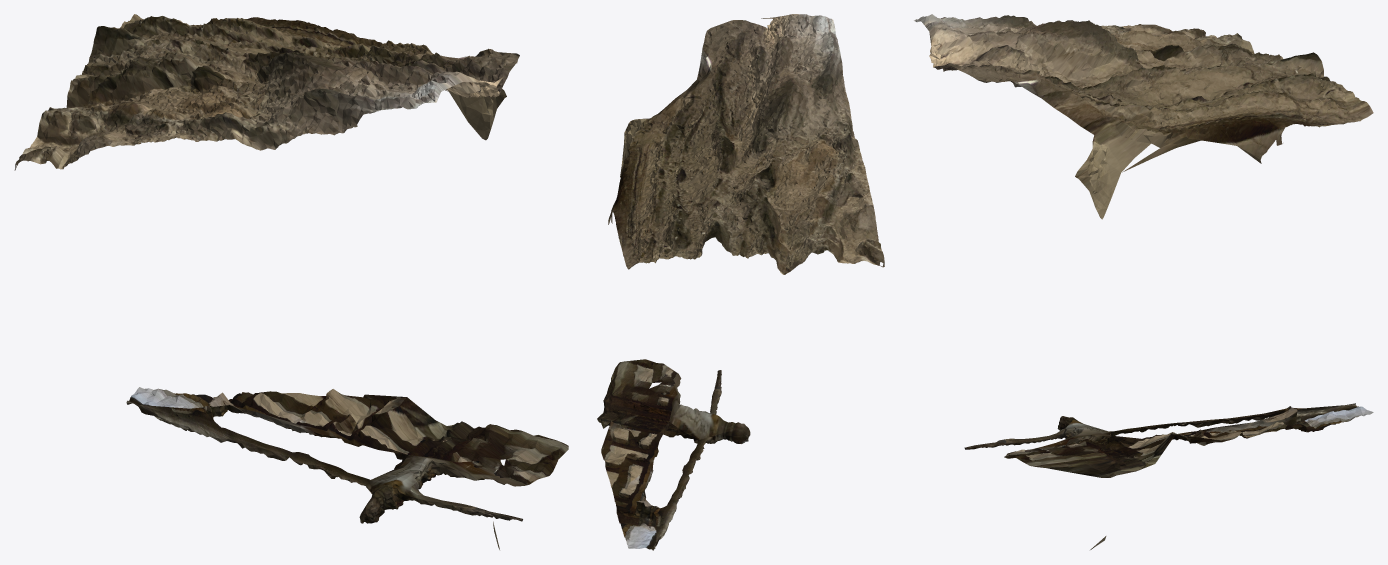
Rendered from tile_0_5.obj.
3 renders of one model, left to right at view 1: azimuth 30°, elevation 25°; view 2: azimuth 150°, elevation 25°; view 3: azimuth 270°, elevation 25°, orthographic. The views are drawn at different scales.
Visible parts, largest first — view 1: texture_0; view 2: texture_0; view 3: texture_0.
Boxes of the visible parts, x1=… form: texture_0: x1=14, y1=14, x2=568, y2=549; texture_0: x1=597, y1=14, x2=884, y2=550; texture_0: x1=914, y1=14, x2=1373, y2=549.
Size of the model in its own units: 0.3825 by 0.4698 by 0.4162.
Materials: 1 (1 with a texture image).
